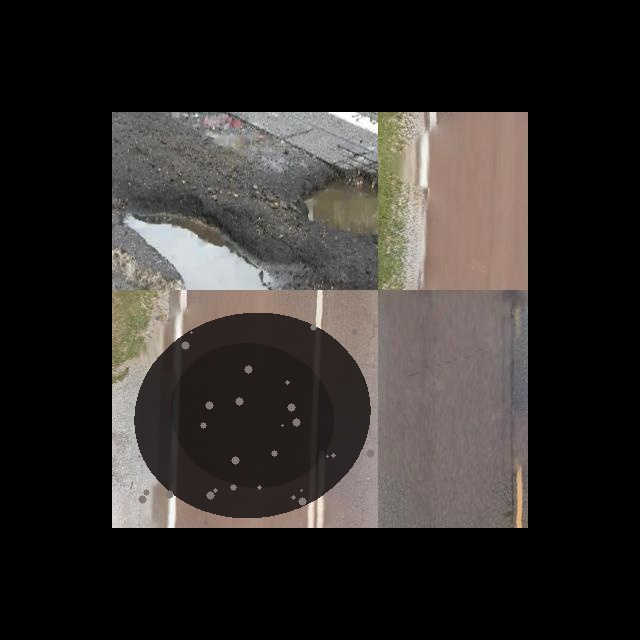pothole: (129, 308, 375, 522)
